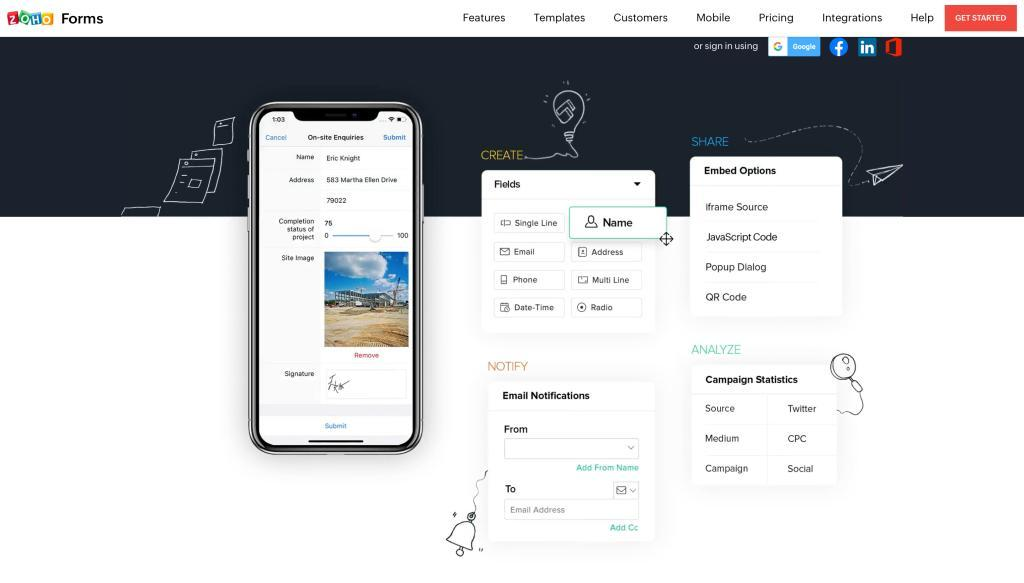button: (570, 207, 668, 241), (946, 6, 1019, 34), (495, 298, 566, 319), (494, 271, 566, 291), (572, 298, 643, 318), (572, 271, 643, 291), (496, 214, 566, 234), (495, 244, 566, 263), (573, 243, 643, 261)
dropdown: (505, 439, 640, 461)
icon: (614, 482, 641, 499)
input: (506, 501, 640, 521)
label: (501, 425, 531, 436), (505, 482, 517, 494)
slider: (324, 231, 411, 243)
